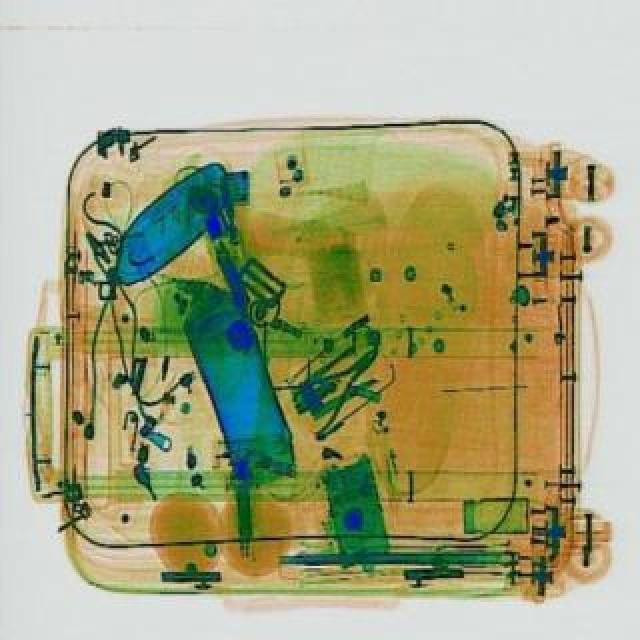wrench: (278, 330, 396, 438)
